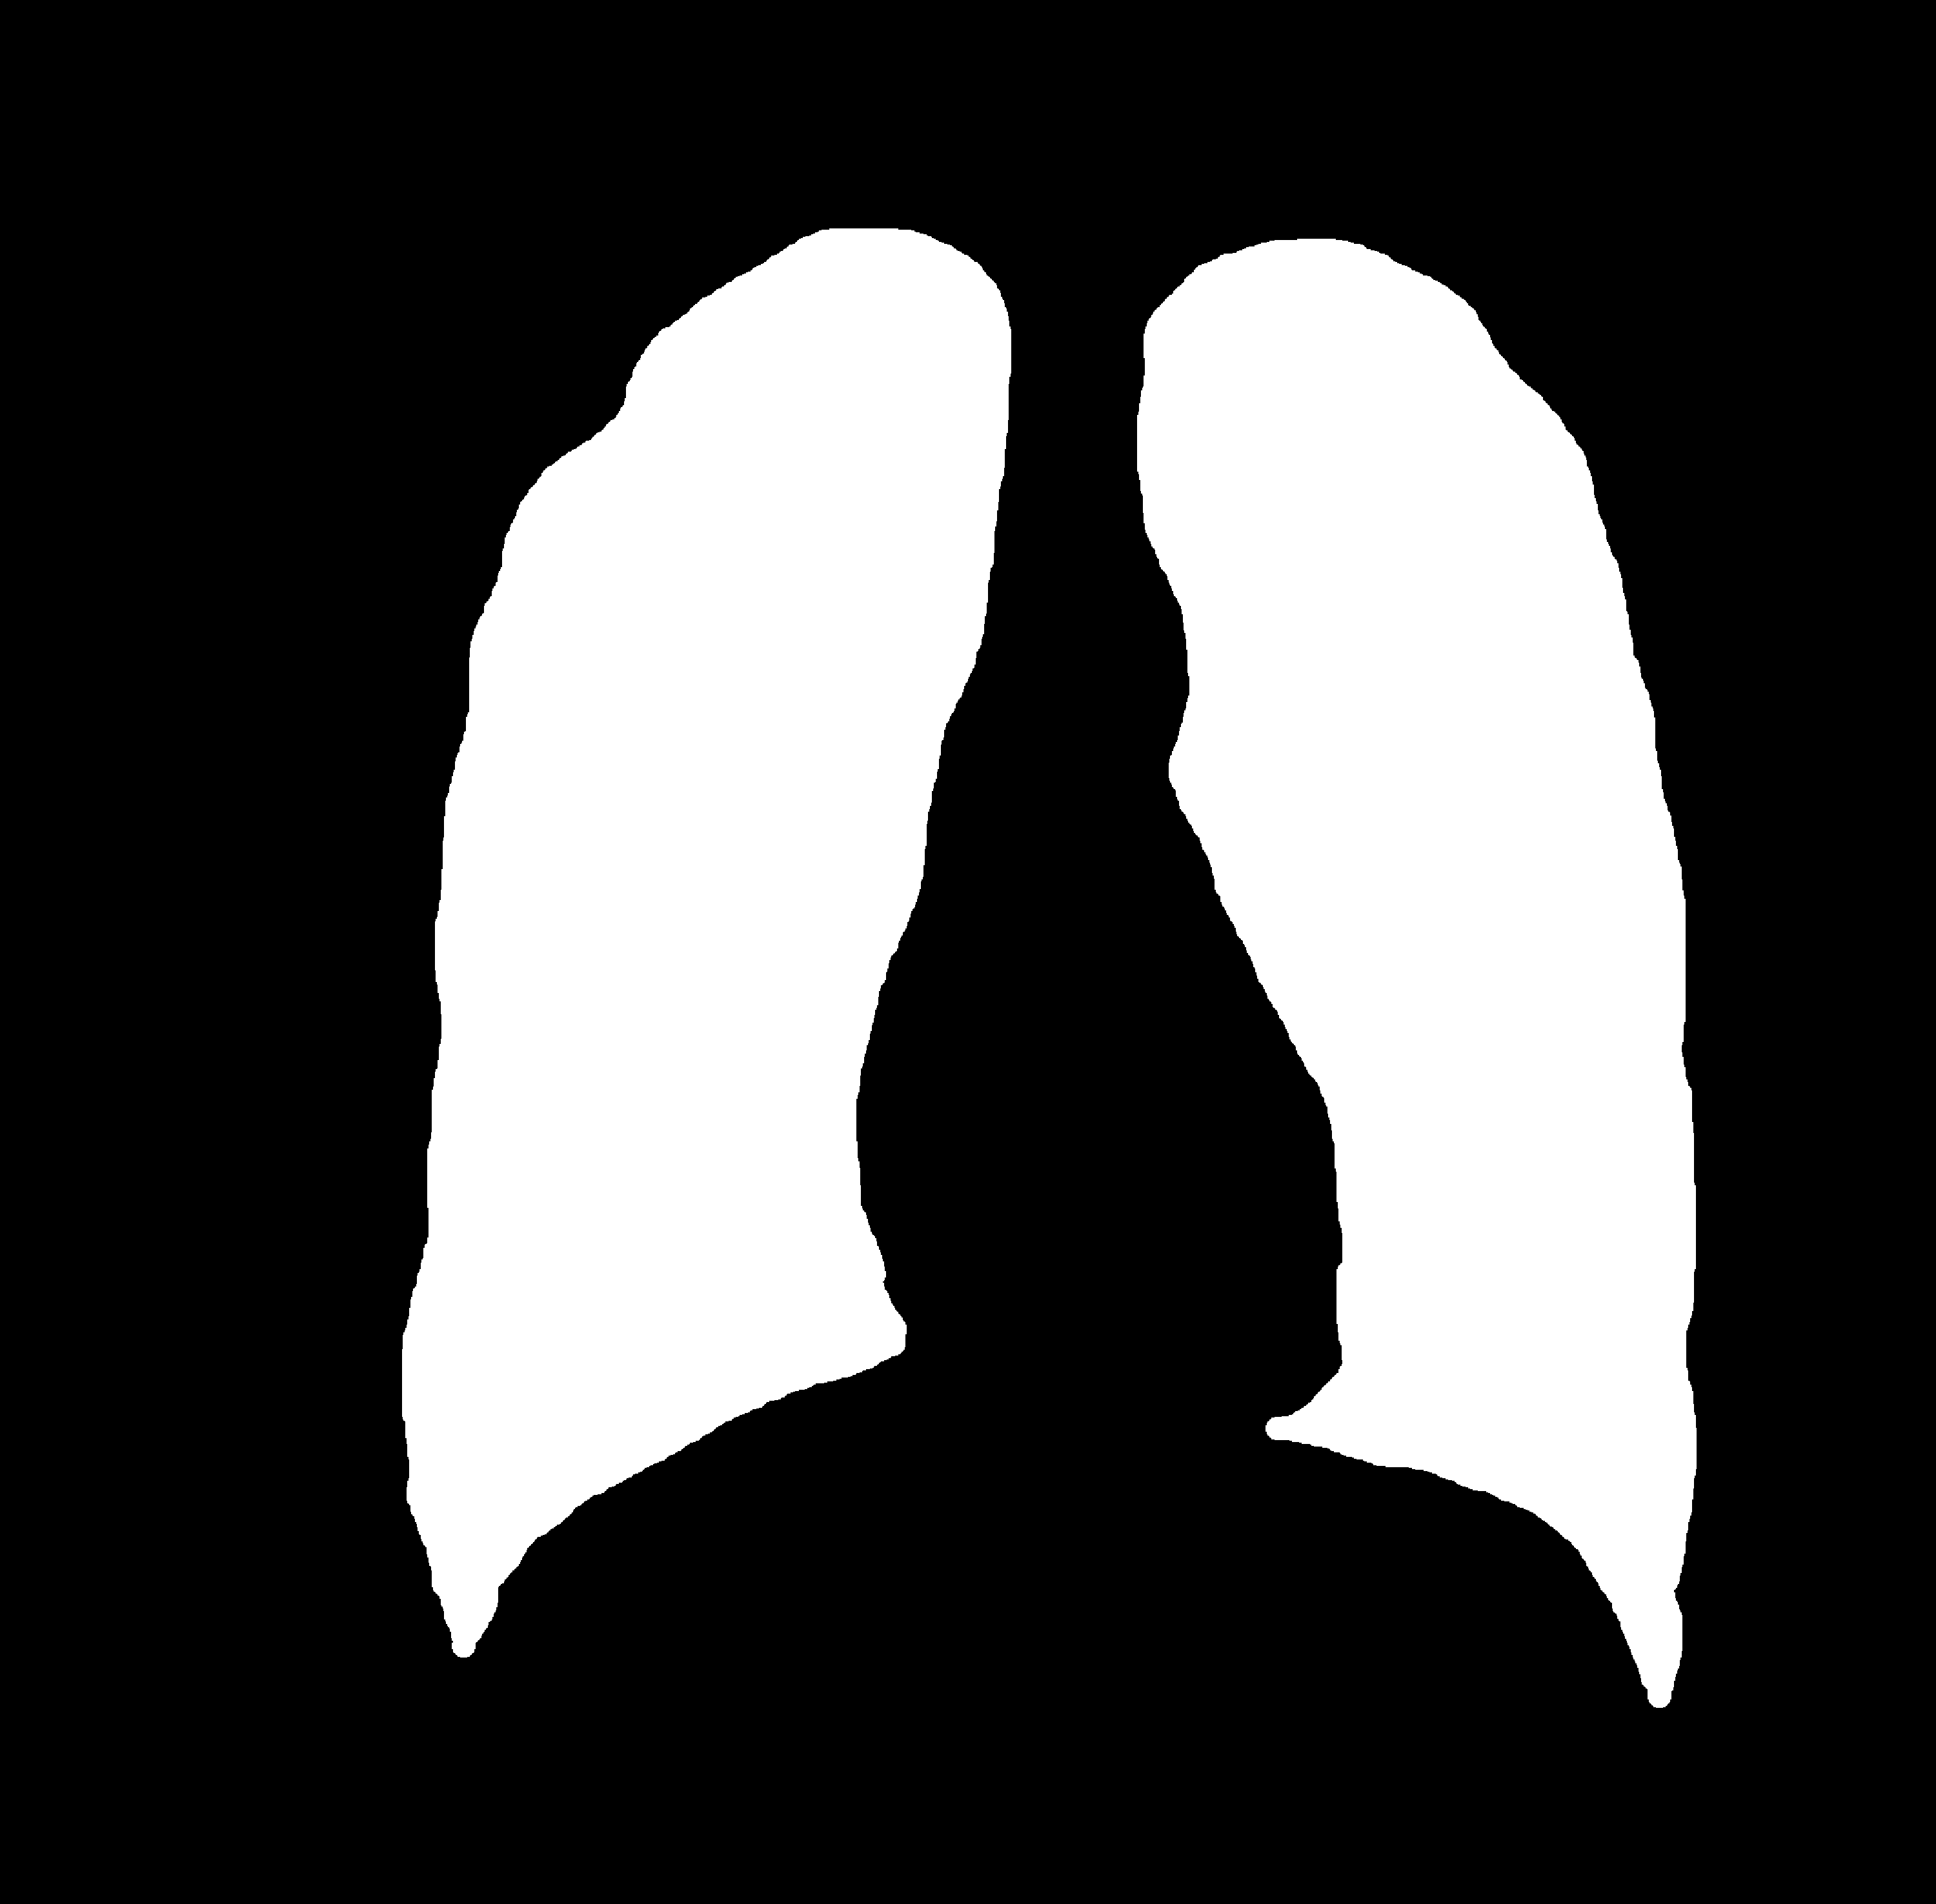heart: (849, 915, 1352, 1435)
left_lung: (403, 228, 1010, 1656)
right_lung: (1137, 239, 1695, 1707)
